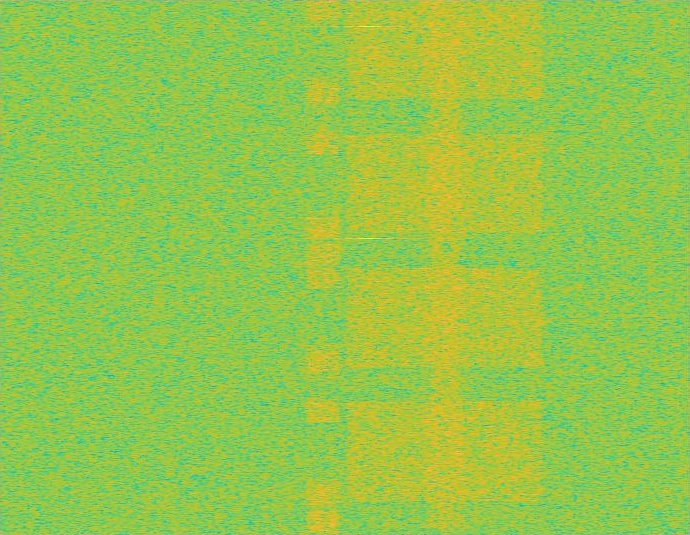5G: (342, 0, 549, 534)
DSSS: (422, 0, 469, 534)
LTE: (306, 0, 341, 534)
Radar: (362, 0, 376, 534)
